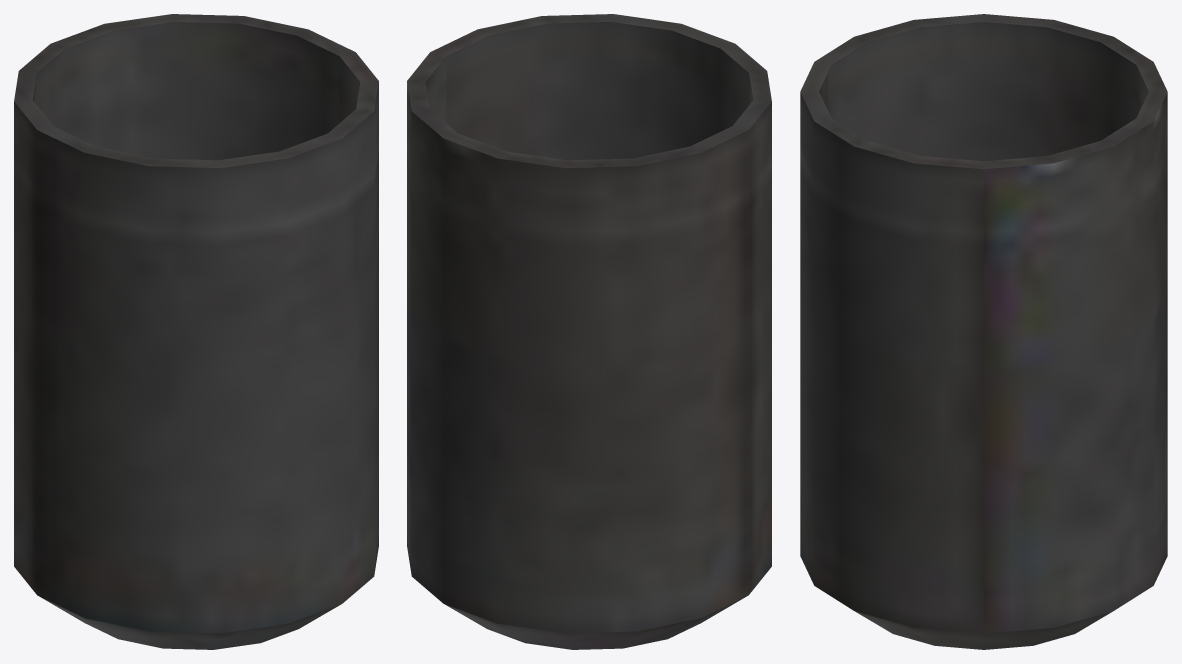
File: trash_can.glb
3 views of the same model, side by side, from view 1: azimuth 30°, elevation 25°; view 2: azimuth 150°, elevation 25°; view 3: azimuth 270°, elevation 25° (orthographic).
Parts seen in each view (by area): view 1: Trash_Can; view 2: Trash_Can; view 3: Trash_Can.
Part boxes in pixels (x1,y1,x2,y2): Trash_Can: [14, 14, 378, 649]; Trash_Can: [407, 14, 771, 649]; Trash_Can: [800, 14, 1167, 649].
Size of the model in its own units: 0.48 by 0.7267 by 0.48.
Materials: 1 (1 with a texture image).
